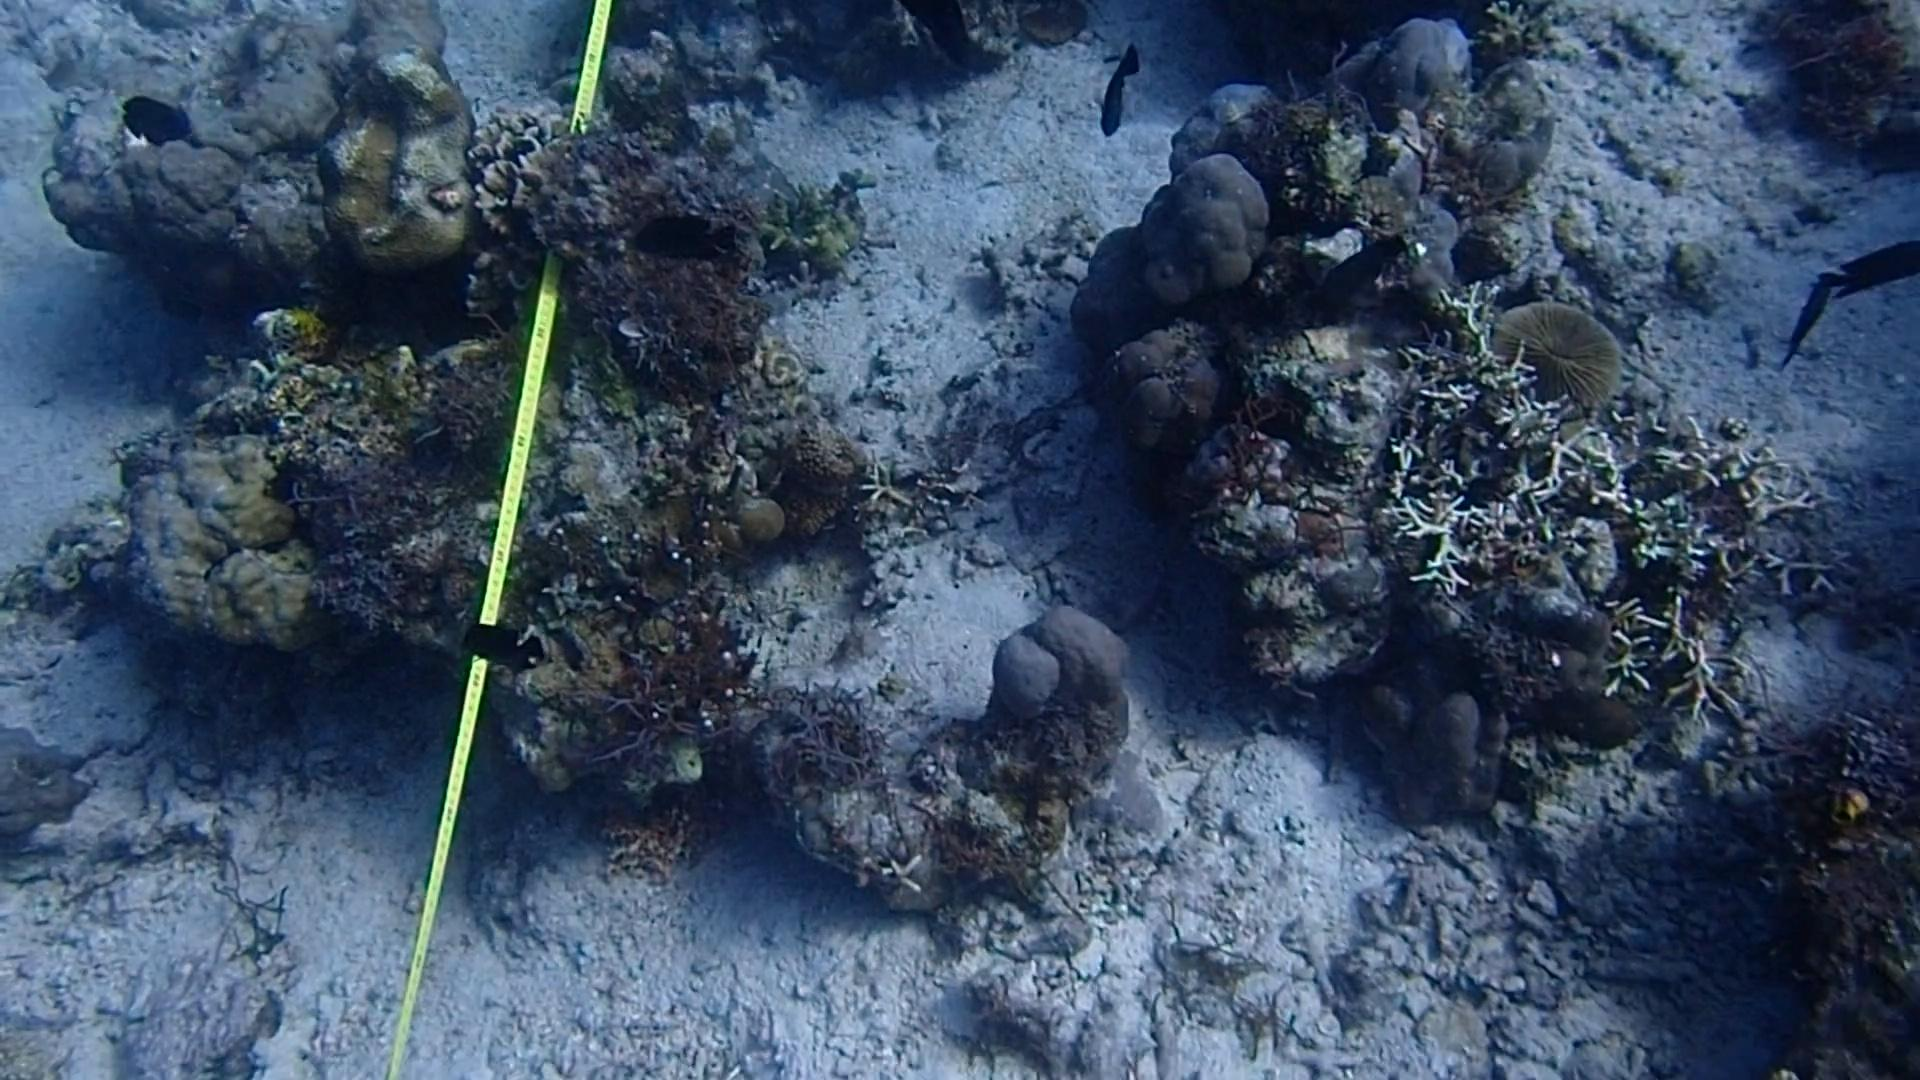Dark Fish: (1287, 233, 1399, 335), (1758, 262, 1850, 368), (615, 218, 749, 285), (1087, 44, 1159, 145), (906, 0, 997, 80), (1840, 218, 1920, 299), (108, 80, 199, 152), (462, 616, 539, 688)
